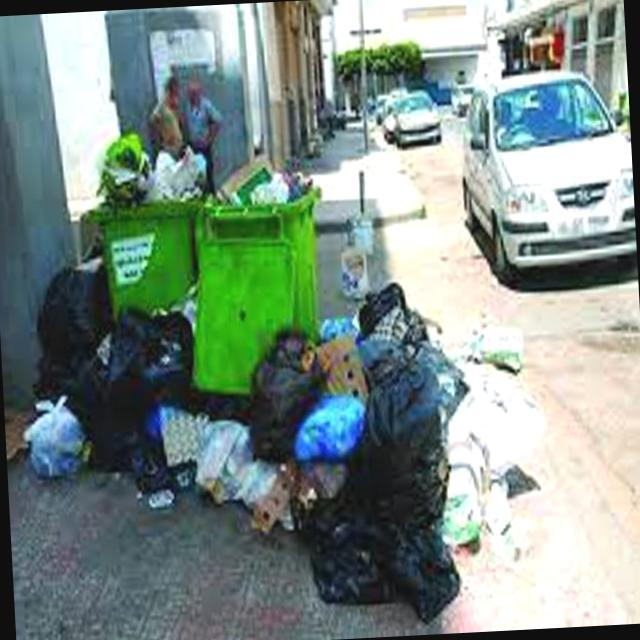garbage: (0, 118, 483, 640)
